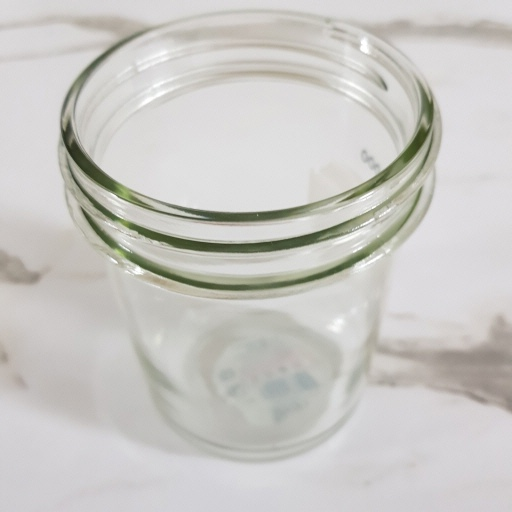Glass_5: (58, 8, 440, 453)
